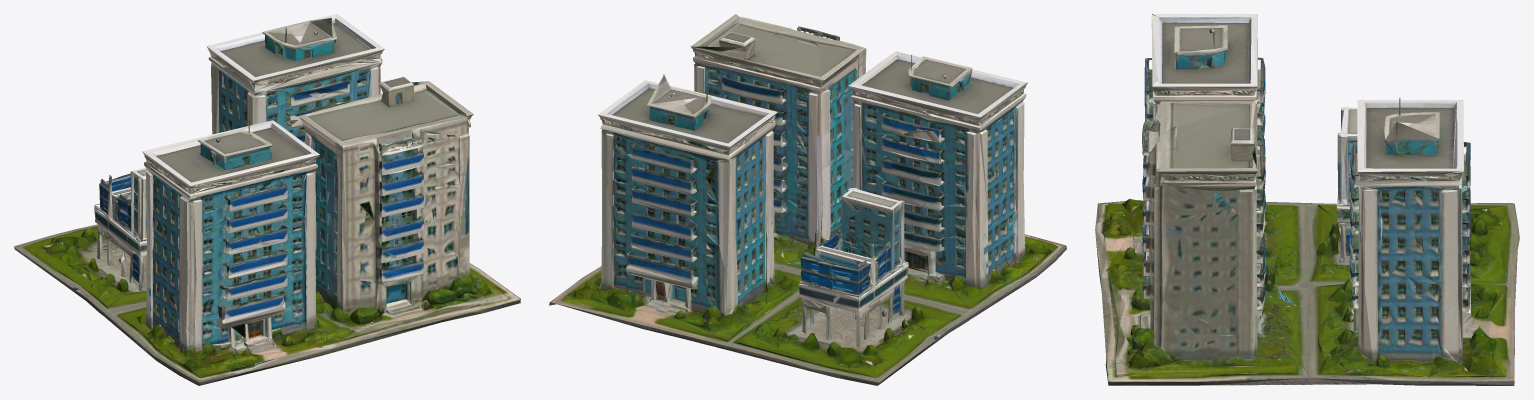
File: town_flats_trop_1x1_7.glb
3 renders of one model, left to right at view 1: azimuth 30°, elevation 25°; view 2: azimuth 150°, elevation 25°; view 3: azimuth 270°, elevation 25°, orthographic. The views are drawn at different scales.
Visible parts, largest first — view 1: normalize; view 2: normalize; view 3: normalize.
Boxes of the visible parts, x1,y1,x2,y2 form: normalize: [14, 14, 520, 385]; normalize: [549, 14, 1066, 385]; normalize: [1095, 14, 1519, 385].
Bounding box in the file's own units: 1 × 0.6012 × 0.9832.
Materials: 1 (1 with a texture image).
